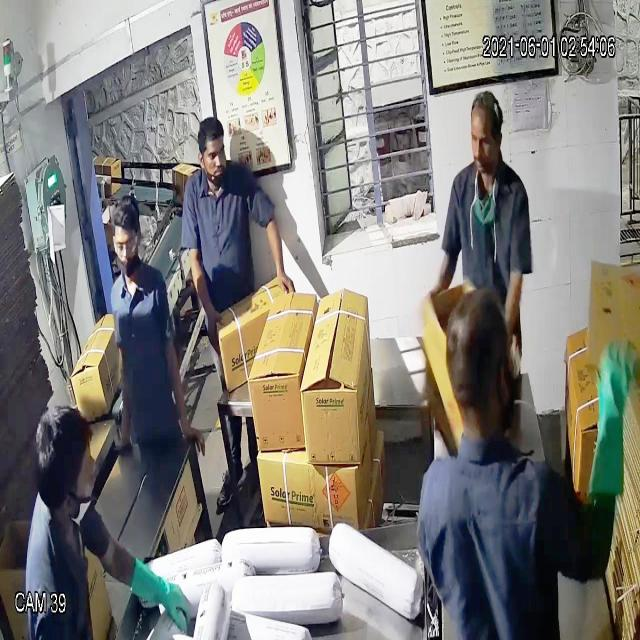glasses: (107, 225, 143, 263)
no-glass: (464, 125, 502, 159)
